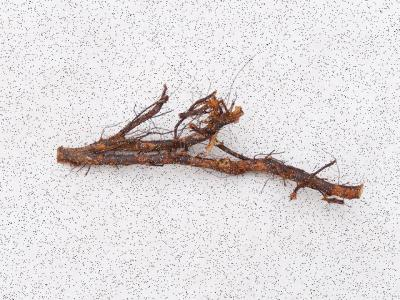Root: (57, 86, 362, 202)
